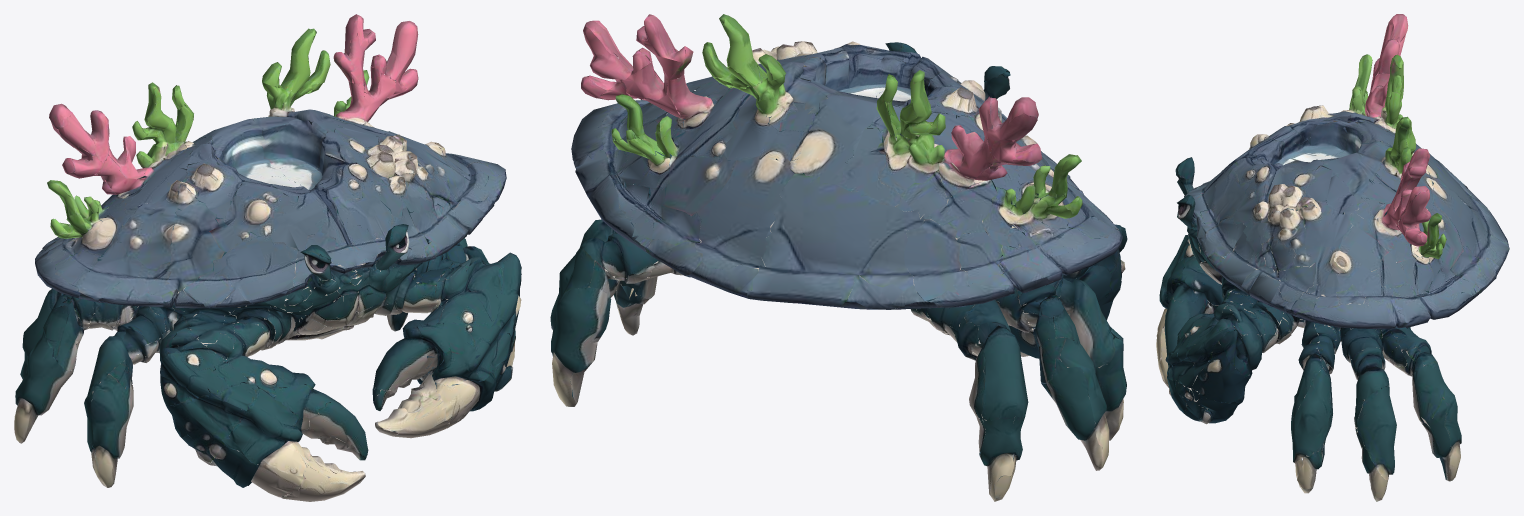
3 views of the same model, side by side, from view 1: azimuth 30°, elevation 25°; view 2: azimuth 150°, elevation 25°; view 3: azimuth 270°, elevation 25° (orthographic). The views are drawn at different scales.
Parts seen in each view (by area): view 1: Mesh_0; view 2: Mesh_0; view 3: Mesh_0.
Part boxes in pixels (box(x1,y1,x2,y2)): Mesh_0: box(14, 14, 521, 501); Mesh_0: box(550, 14, 1127, 501); Mesh_0: box(1156, 14, 1509, 501).
Bounding box in the file's own units: 1.9 × 1.35 × 1.35.
1 material, 1 textured.
